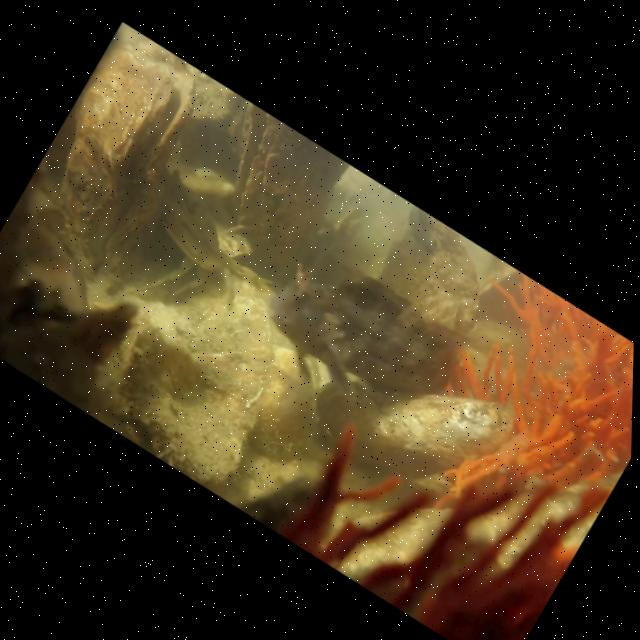Oyster-Closed: (155, 162, 227, 272)
Oyster-Open: (55, 36, 198, 285), (230, 102, 347, 273)
